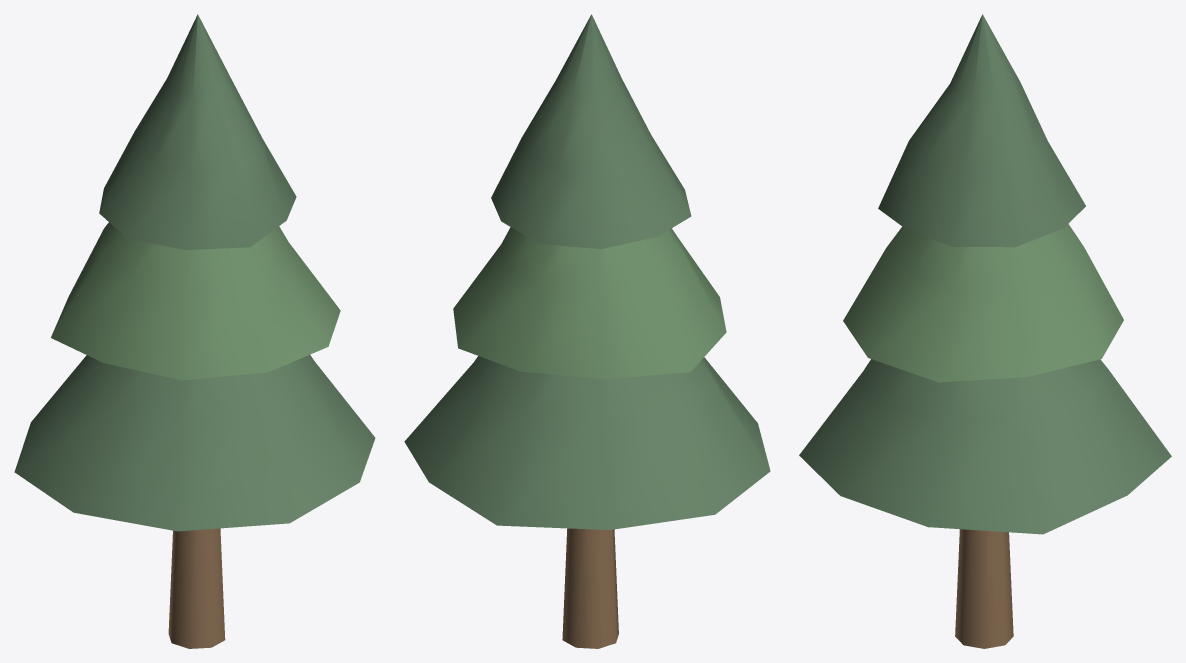
File: pine.lod2.glb
3 views of the same model, side by side, from view 1: azimuth 30°, elevation 25°; view 2: azimuth 150°, elevation 25°; view 3: azimuth 270°, elevation 25° (orthographic).
Visible parts, largest first — view 1: mesh; view 2: mesh; view 3: mesh.
Boxes of the visible parts, box(x1,y1,x2,y2) form: mesh: box(14, 14, 375, 648); mesh: box(404, 14, 770, 648); mesh: box(799, 14, 1171, 648).
Size of the model in its own units: 1.96 by 3.75 by 2.04.
